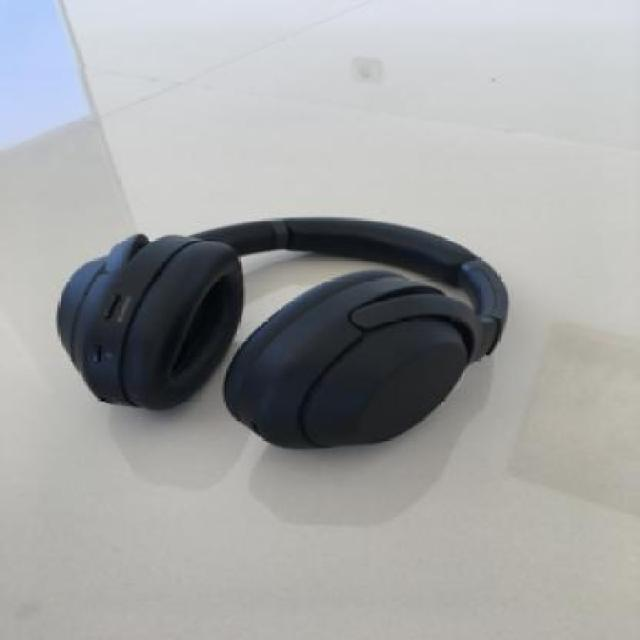earphone: (18, 128, 577, 535)
